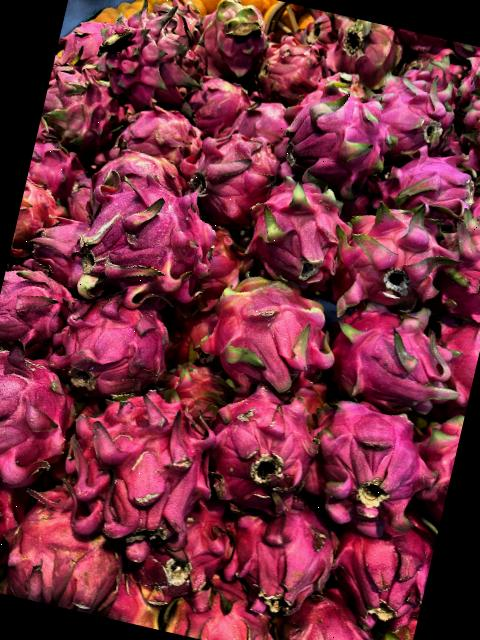buah-naga-matang: (41, 364, 233, 562), (64, 165, 232, 322), (292, 391, 447, 543), (186, 372, 336, 526), (207, 479, 359, 624), (192, 259, 350, 397), (317, 296, 469, 431), (307, 490, 441, 640), (0, 484, 136, 618), (272, 68, 401, 208), (331, 193, 462, 324), (225, 162, 357, 292), (42, 282, 182, 403), (84, 9, 214, 123), (0, 342, 87, 510), (175, 119, 299, 228), (365, 132, 480, 231), (354, 69, 464, 165), (36, 56, 134, 162), (0, 258, 91, 369), (177, 0, 279, 87), (314, 14, 414, 97), (437, 76, 480, 180)
